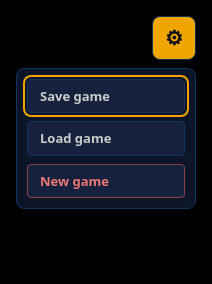
Scenario: GameProvider staff actions › shows repository geometry rejection without replacing the current game
Click the button "Load game": (106,138) x1=27 y1=121 x2=185 y2=156
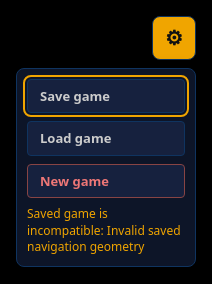
Expected: the message shows "Invalid saved navigation geometry", x1=27 y1=205 x2=181 y2=255
